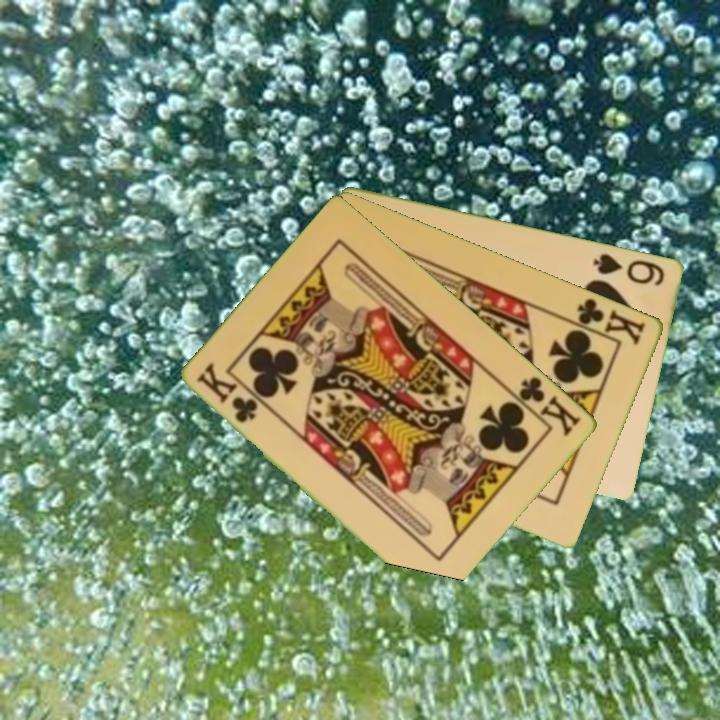6s: (590, 249, 668, 289)
Kc: (507, 372, 585, 439), (193, 360, 262, 426), (566, 294, 649, 348)
